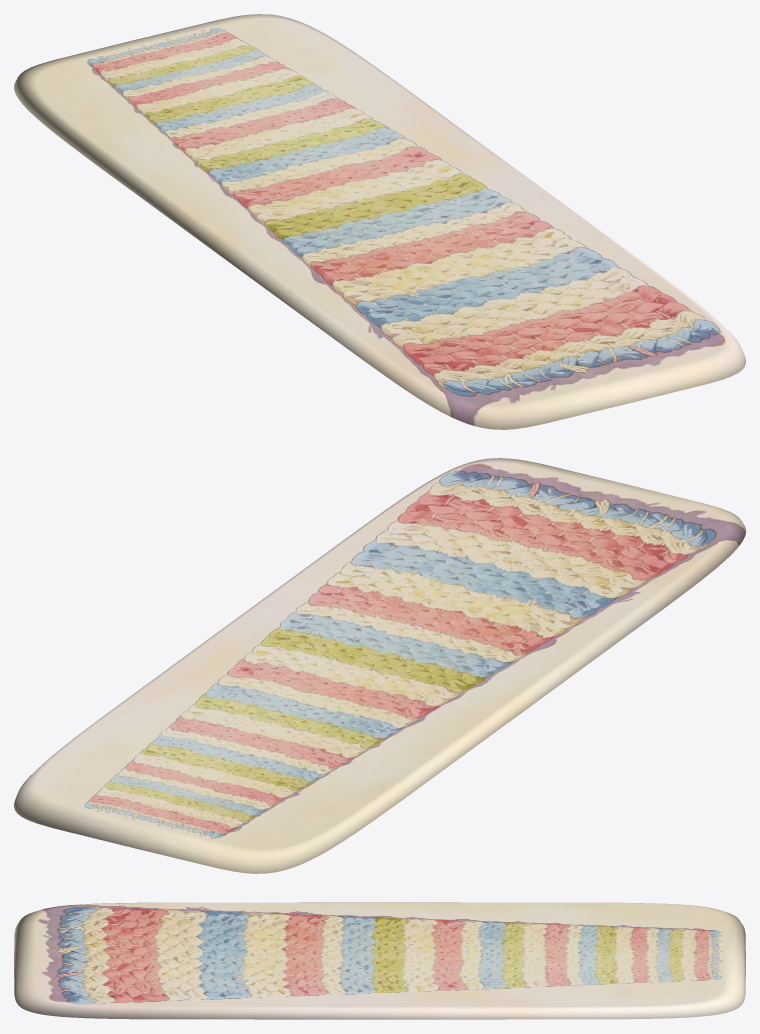
File: wyn_furn_rag_runner.glb
The picture shows the model from 3 angles, top to bottom: view 1: azimuth 30°, elevation 25°; view 2: azimuth 150°, elevation 25°; view 3: azimuth 270°, elevation 25°; orthographic projection. The views are drawn at different scales.
Parts seen in each view (by area): view 1: furn_rag_runner; view 2: furn_rag_runner; view 3: furn_rag_runner.
Boxes of the visible parts, x1=… form: furn_rag_runner: x1=14, y1=14, x2=745, y2=429; furn_rag_runner: x1=14, y1=458, x2=745, y2=873; furn_rag_runner: x1=14, y1=902, x2=745, y2=1019.
Size of the model in its own units: 0.9999 by 0.04 by 2.8.
1 material, 1 textured.
